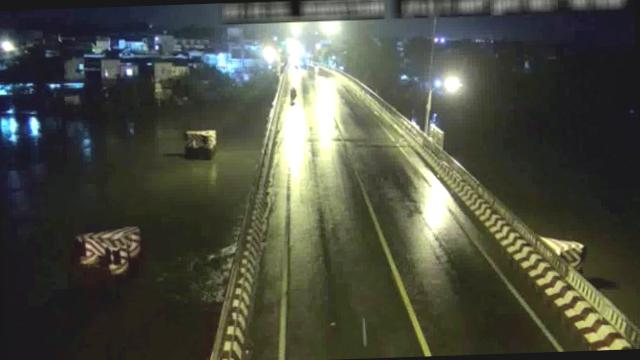Bike: (288, 86, 298, 102)
